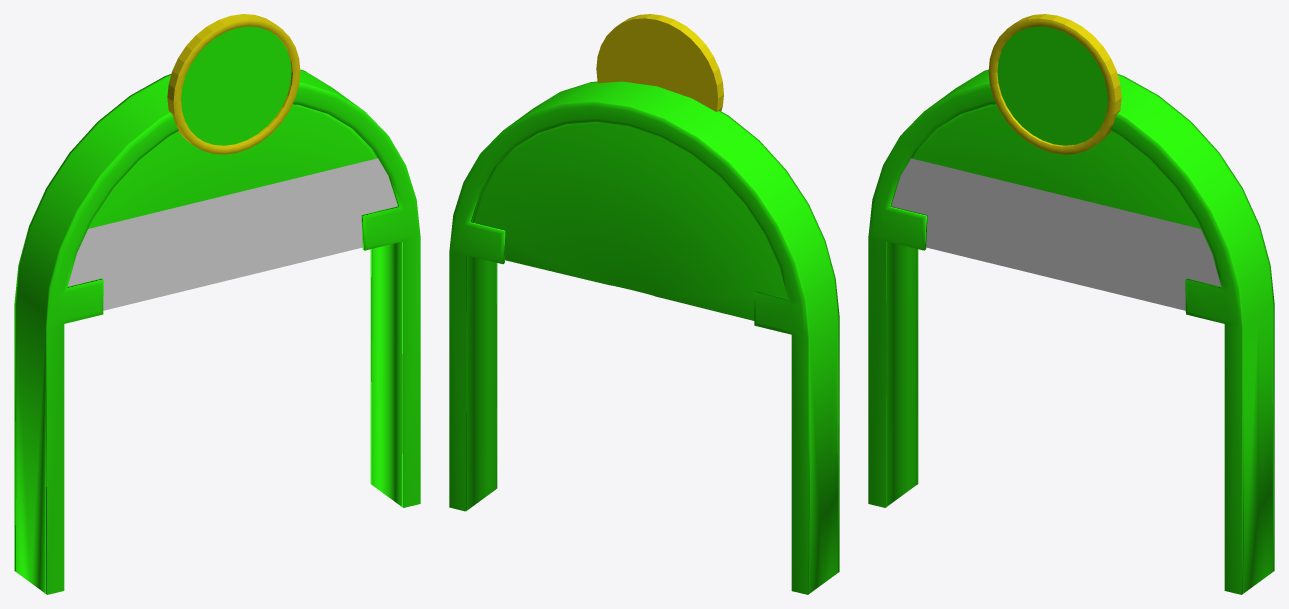
File: GreenPortal2.fbx
3 renders of one model, left to right at view 1: azimuth 30°, elevation 25°; view 2: azimuth 150°, elevation 25°; view 3: azimuth 330°, elevation 25°, orthographic. The views are drawn at different scales.
Parts seen in each view (by area): view 1: Cylinder.002, Plane.001, Cylinder.003; view 2: Cylinder.002, Cylinder.003; view 3: Cylinder.002, Plane.001, Cylinder.003.
Boxes of the visible parts, x1,y1,x2,y2 form: Cylinder.002: [14, 69, 420, 594]; Plane.001: [67, 158, 397, 310]; Cylinder.003: [167, 14, 300, 154]; Cylinder.002: [449, 81, 839, 594]; Cylinder.003: [596, 14, 723, 111]; Cylinder.002: [868, 69, 1274, 594]; Plane.001: [891, 158, 1221, 310]; Cylinder.003: [988, 14, 1121, 154].
Bounding box in the file's own units: 299 × 407 × 50.81.
